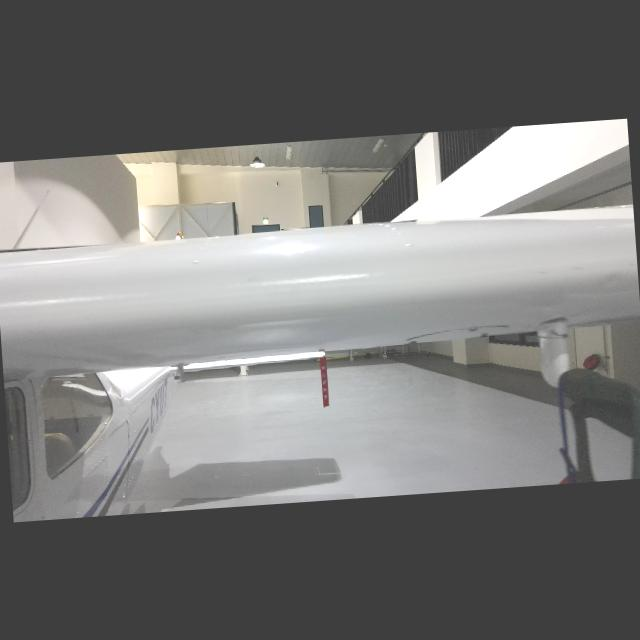dent: (588, 262, 630, 294)
